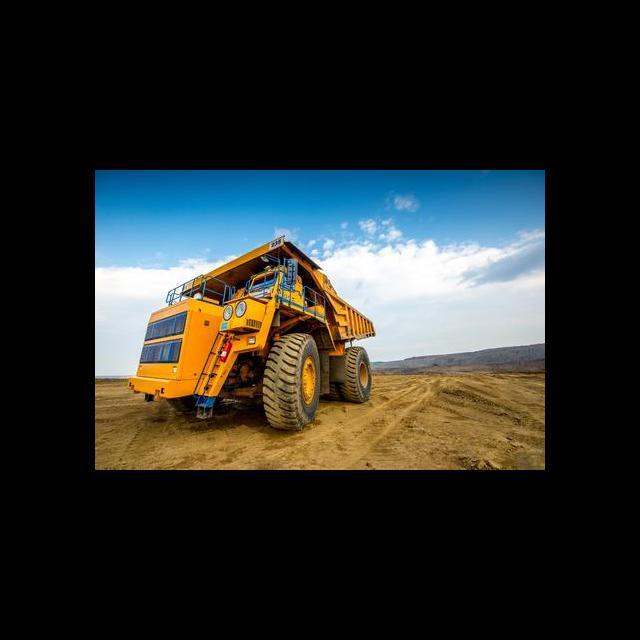dump truck: (124, 231, 376, 433)
